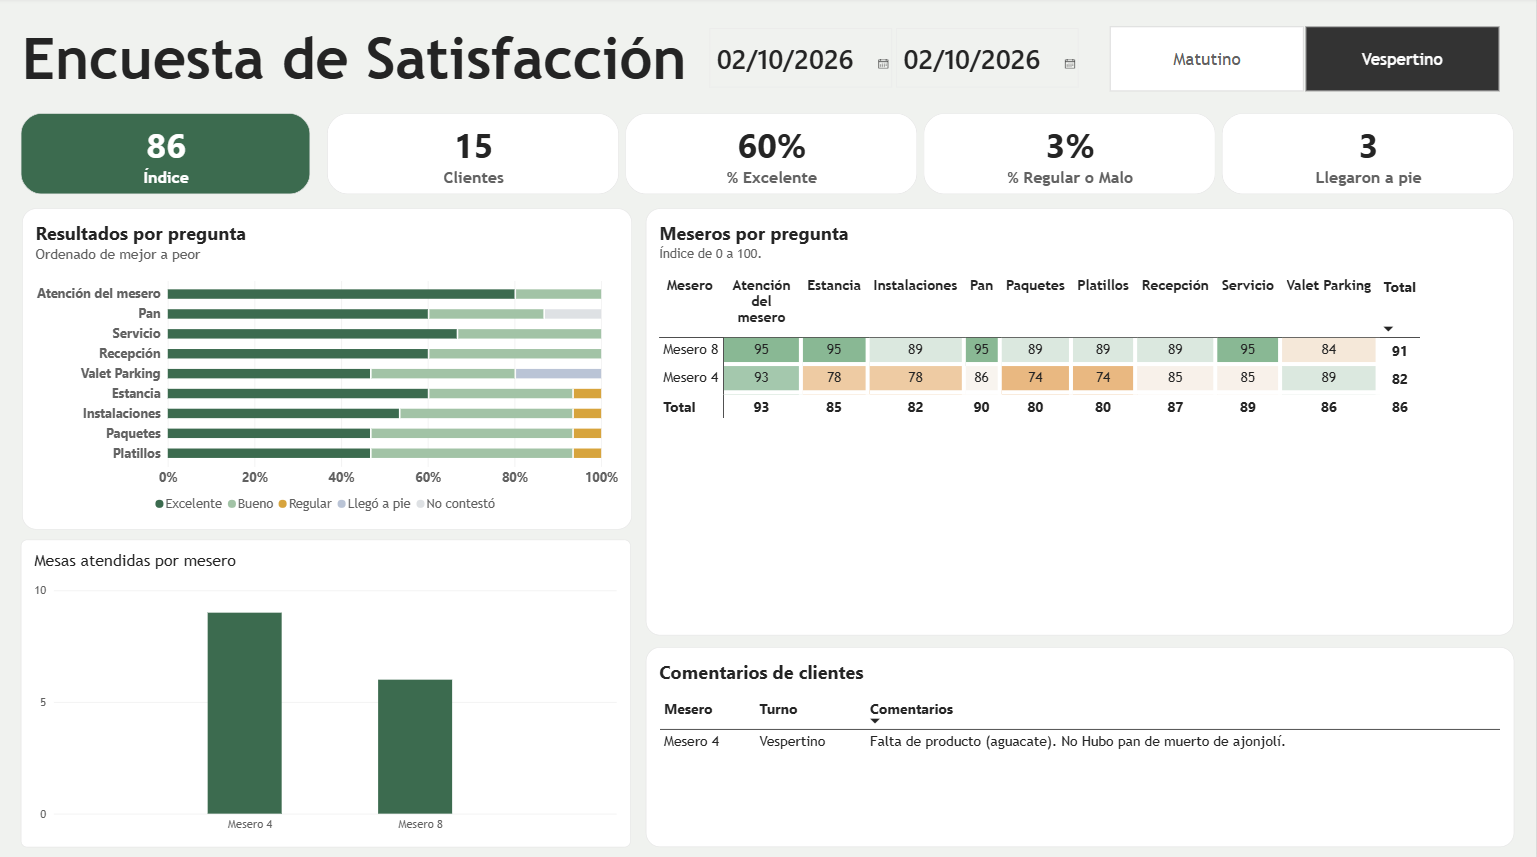

This screenshot's page, from the dashboard's own definition file:
{"tool":"powerbi","page":{"name":"Página 1","canvas":[1920,1080],"ordinal":0},"visuals":[{"type":"hundredPercentStackedBarChart","title":"Resultados por pregunta","fields":{"Category":["Calificaciones.Pregunta"],"Series":["Escala.Respuesta"],"Y":["Calificaciones.Total respuestas"]},"box":[31.4,263.4,760.5,401.2],"z":0},{"type":"pivotTable","title":"Meseros por pregunta","fields":{"Columns":["Calificaciones.Pregunta"],"Rows":["Respuestas.Mesero"],"Values":["Calificaciones.Índice"]},"box":[809.3,263.4,1082.5,532.5],"z":1000},{"type":"slicer","fields":{"Values":["Respuestas.Turno"]},"box":[1367.5,35,525,85],"z":2000},{"type":"cardVisual","fields":{"Data":["Calificaciones.Clientes","Calificaciones.% Excelente","Calificaciones.% Regular o Malo","Calificaciones.Llegaron a pie"]},"box":[411.6,144.8,1480.8,101.2],"z":3000},{"type":"tableEx","title":"Comentarios de clientes","fields":{"Values":["Respuestas.Mesero","Respuestas.Turno","Respuestas.Comentarios"]},"box":[809.3,811,1083.1,249.4],"z":4000},{"type":"textbox","box":[30,35,831.6,111.1],"z":5000},{"type":"slicer","fields":{"Values":["Respuestas.Fecha"]},"box":[880,35,487.8,84.4],"z":6000},{"type":"cardVisual","fields":{"Data":["Calificaciones.Índice"]},"box":[29.7,144.8,361,101.2],"z":7000},{"type":"clusteredColumnChart","title":"Mesas atendidas por mesero","fields":{"Category":["Respuestas.Mesero"],"Y":["Calificaciones.Clientes"]},"box":[29.7,676.7,760.5,383.7],"z":7001}]}

Visuals, with their boxes in screenshot pixels (x1, y1, x2, y2), scaled from the page's 1920x1080 canvas onto the 1537x857 screenshot:
"Resultados por pregunta" hundredPercentStackedBarChart: BBox(25, 209, 634, 527)
"Meseros por pregunta" pivotTable: BBox(648, 209, 1514, 632)
slicer - Respuestas.Turno: BBox(1095, 28, 1515, 95)
cardVisual - Calificaciones.Clientes x Calificaciones.% Excelente: BBox(329, 115, 1515, 195)
"Comentarios de clientes" tableEx: BBox(648, 644, 1515, 841)
textbox: BBox(24, 28, 690, 116)
slicer - Respuestas.Fecha: BBox(704, 28, 1095, 95)
cardVisual - Calificaciones.Índice: BBox(24, 115, 313, 195)
"Mesas atendidas por mesero" clusteredColumnChart: BBox(24, 537, 633, 841)
